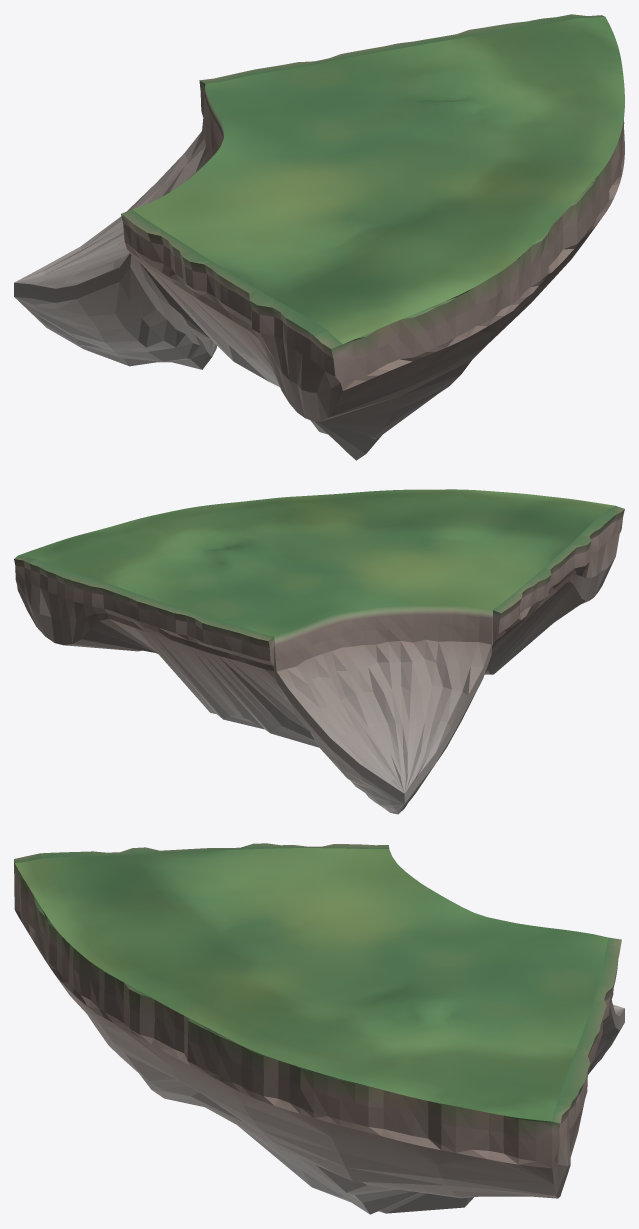
The model's file is piece_meadow.glb.
3 views of the same model, one above another, from view 1: azimuth 30°, elevation 25°; view 2: azimuth 150°, elevation 25°; view 3: azimuth 270°, elevation 25° (orthographic). The views are drawn at different scales.
Parts seen in each view (by area): view 1: piece_meadow, skirt_wetland, skirt_islet; view 2: piece_meadow, skirt_islet, skirt_wetland; view 3: piece_meadow, skirt_islet, skirt_wetland.
Part boxes in pixels (x1,y1,x2,y2): piece_meadow: (14,17,624,460); skirt_wetland: (121,209,342,421); skirt_islet: (199,14,604,116); piece_meadow: (18,489,615,814); skirt_islet: (14,555,274,671); skirt_wetland: (493,506,624,644); piece_meadow: (14,848,624,1214); skirt_islet: (552,937,621,1198); skirt_wetland: (14,843,389,896).
Bounding box in the file's own units: 25.42 × 10.62 × 23.73.
